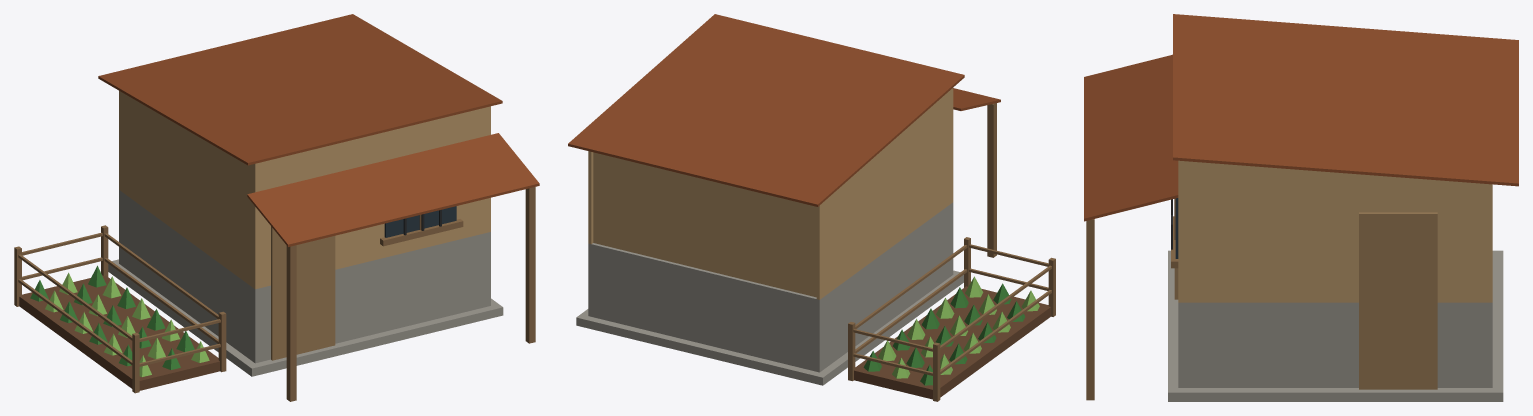
File: BAY_I_SariSari_O.glb
3 views of the same model, side by side, from view 1: azimuth 30°, elevation 25°; view 2: azimuth 150°, elevation 25°; view 3: azimuth 270°, elevation 25° (orthographic). The views are drawn at different scales.
Parts seen in each view (by area): view 1: BAY_I_SariSari_O; view 2: BAY_I_SariSari_O; view 3: BAY_I_SariSari_O.
Boxes of the visible parts, x1,y1,x2,y2 form: BAY_I_SariSari_O: (14, 14, 539, 401); BAY_I_SariSari_O: (568, 14, 1055, 401); BAY_I_SariSari_O: (1084, 14, 1518, 401).
Size of the model in its own units: 4.55 by 2.58 by 4.15.
1 material, 1 textured.
